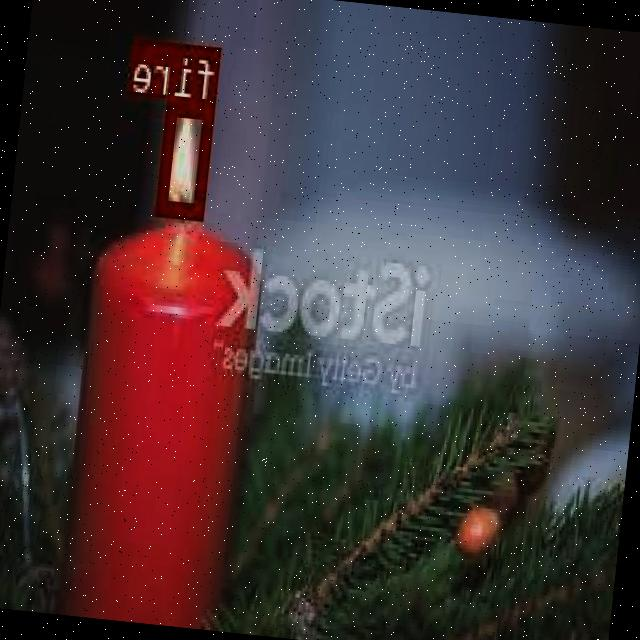fire: (158, 96, 216, 218)
